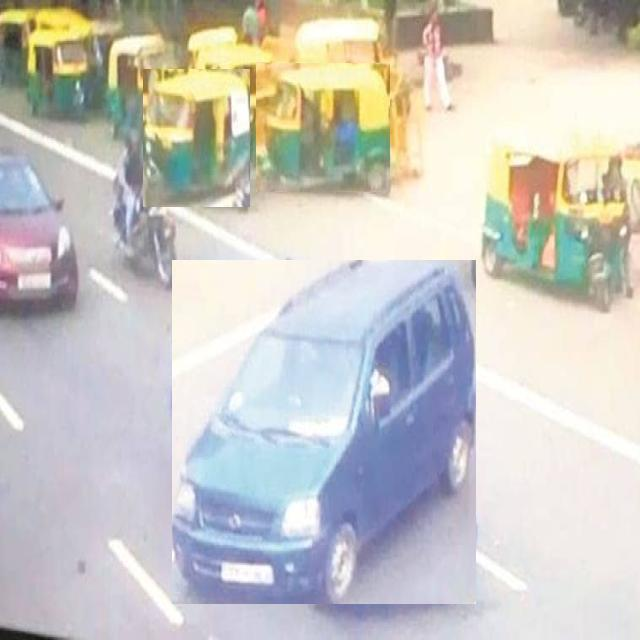autorickshaw: (480, 130, 629, 316), (256, 63, 390, 192), (144, 70, 250, 207)
car: (172, 261, 476, 604)
